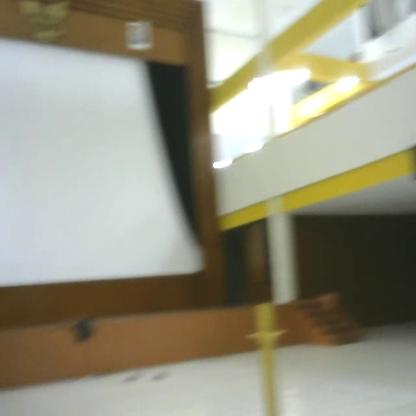pole: (246, 299, 292, 416)
